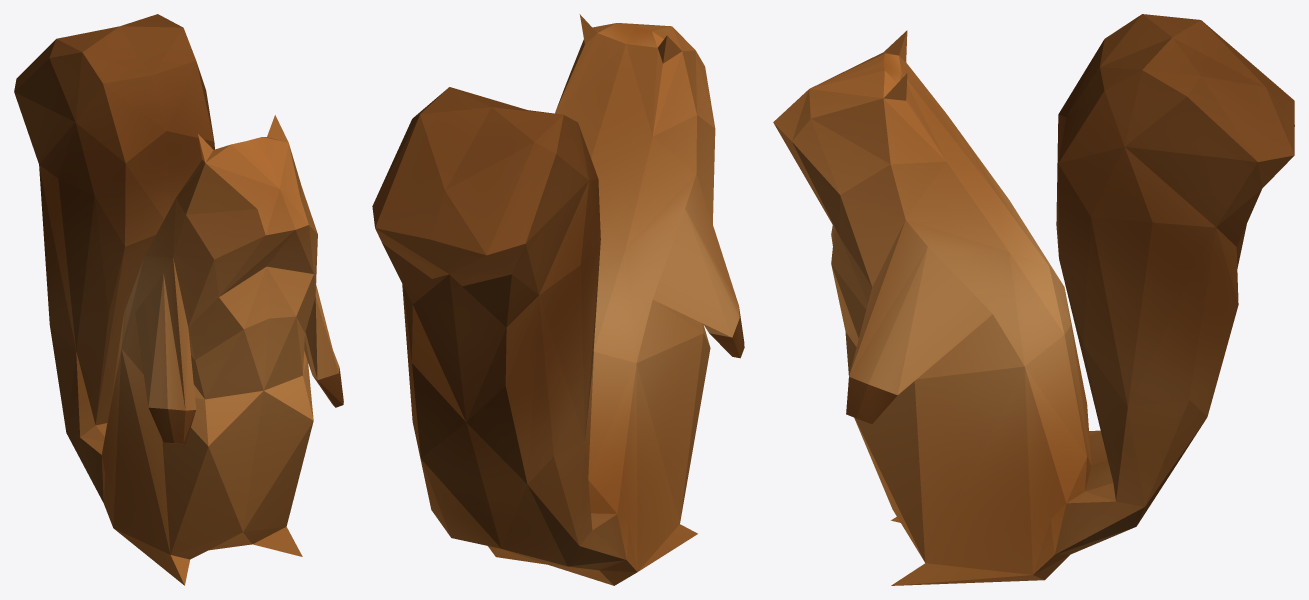
Rendered from squirrel.obj.
3 renders of one model, left to right at view 1: azimuth 30°, elevation 25°; view 2: azimuth 150°, elevation 25°; view 3: azimuth 270°, elevation 25°, orthographic. The views are drawn at different scales.
Visible parts, largest first — view 1: Squirrel_Cube.001; view 2: Squirrel_Cube.001; view 3: Squirrel_Cube.001.
Part boxes in pixels (<box>): Squirrel_Cube.001: <box>14,14,343,585</box>; Squirrel_Cube.001: <box>372,14,744,585</box>; Squirrel_Cube.001: <box>773,14,1294,585</box>.
Size of the model in its own units: 1.43 by 3.39 by 3.07.
